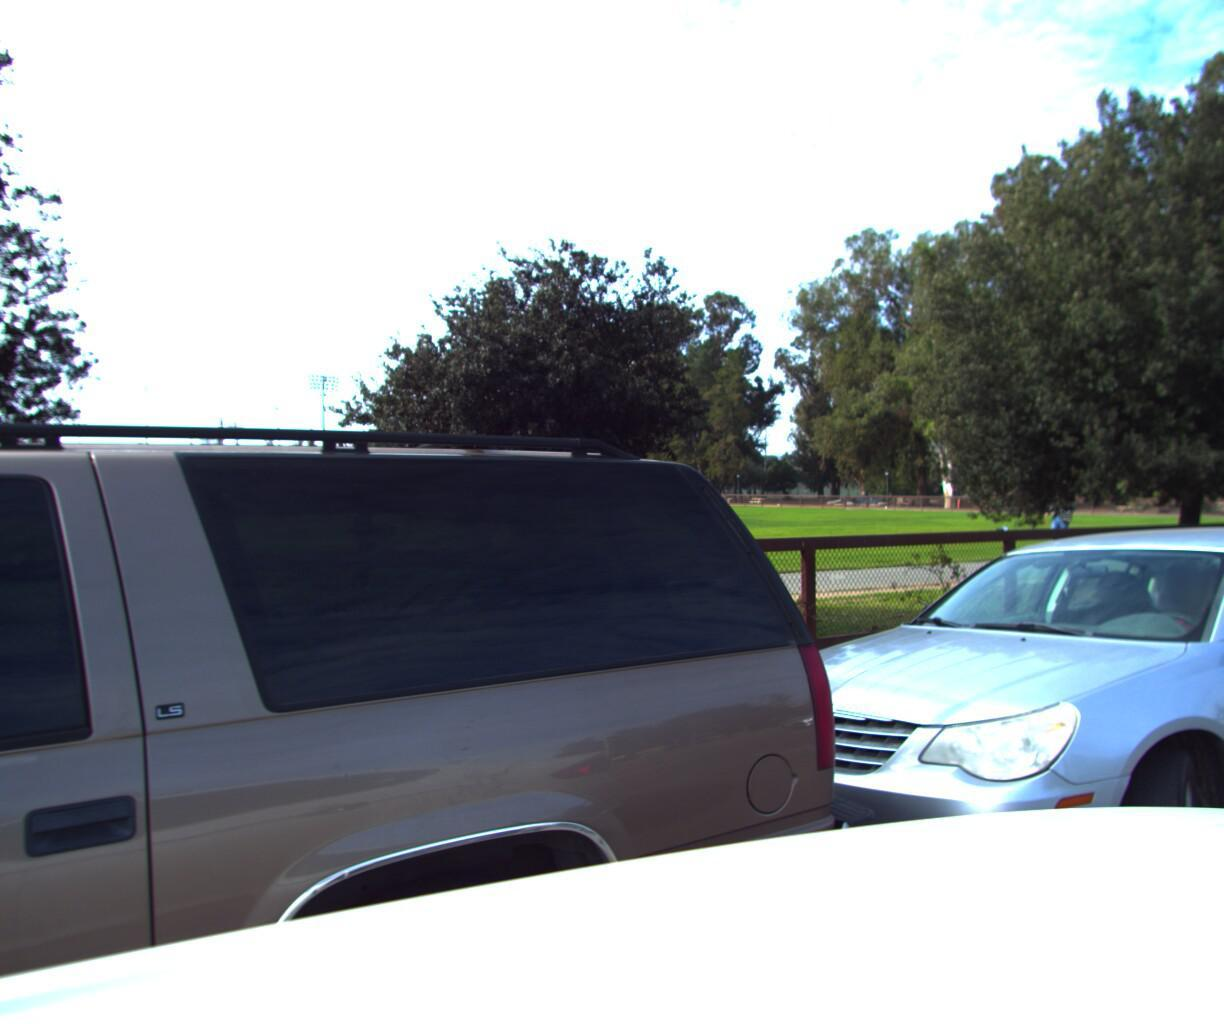car: (680, 490, 1224, 1024)
